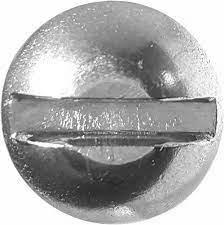screw: (1, 1, 222, 221)
